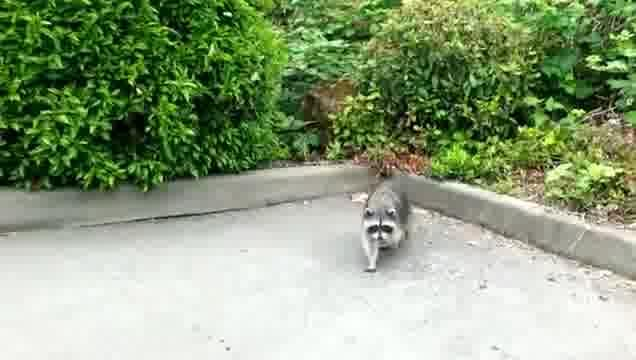raccoon: (361, 181, 411, 276)
